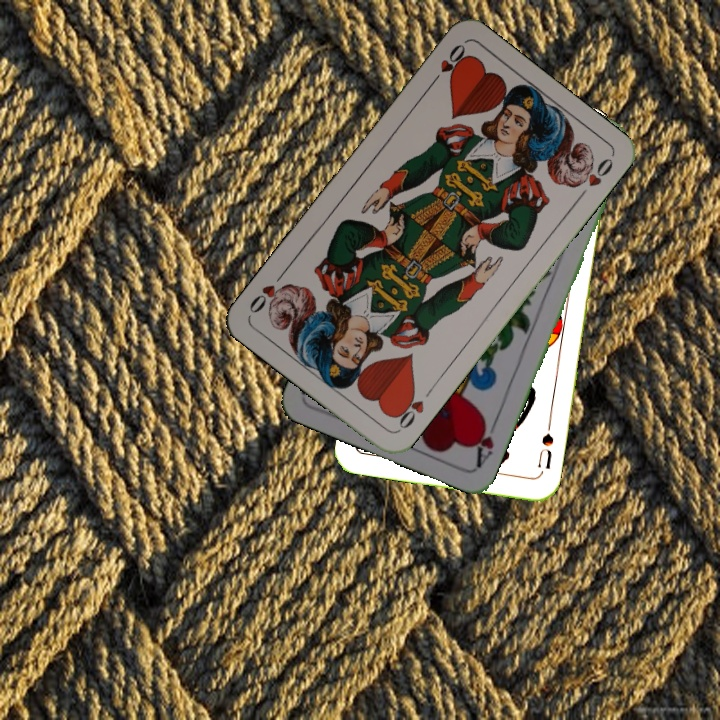HA: (469, 412, 502, 469)
HO: (425, 39, 470, 90), (390, 383, 436, 432)
SU: (533, 429, 557, 472)
